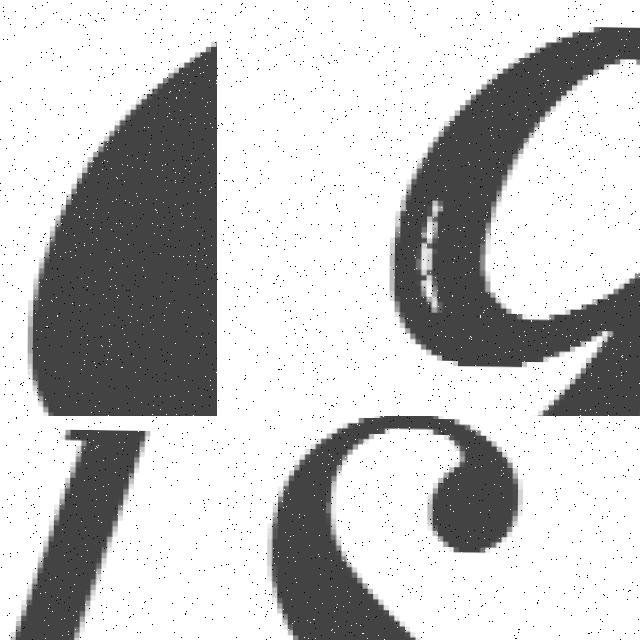9: (264, 9, 640, 416)
E: (27, 38, 217, 416)
L: (0, 416, 156, 640)
S: (217, 416, 528, 640)
